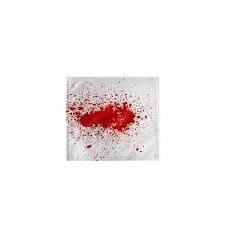blood: (76, 103, 136, 133)
